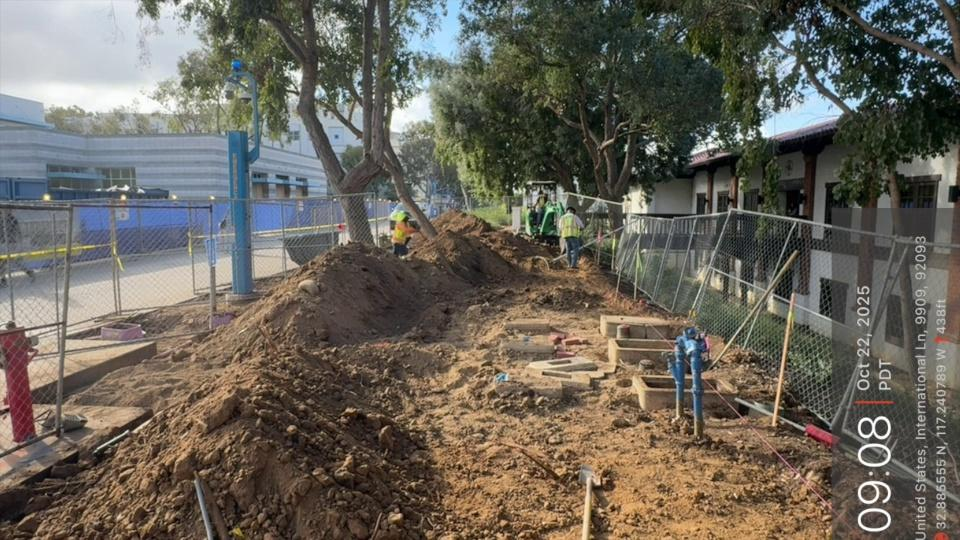Exacavator: (500, 166, 571, 251)
